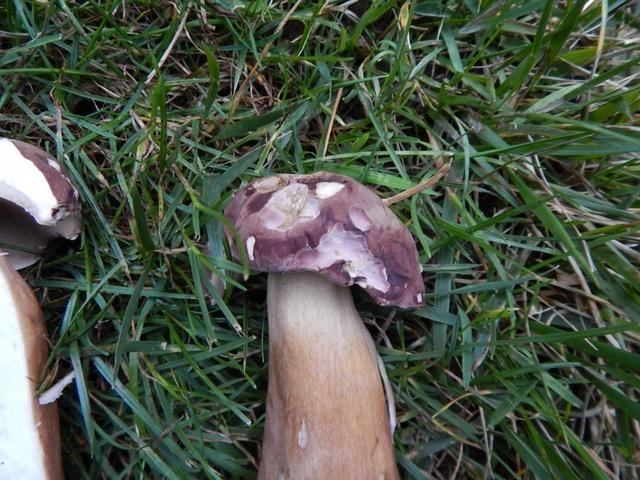poisonous_mushroom: (203, 169, 426, 478), (0, 131, 119, 479)
